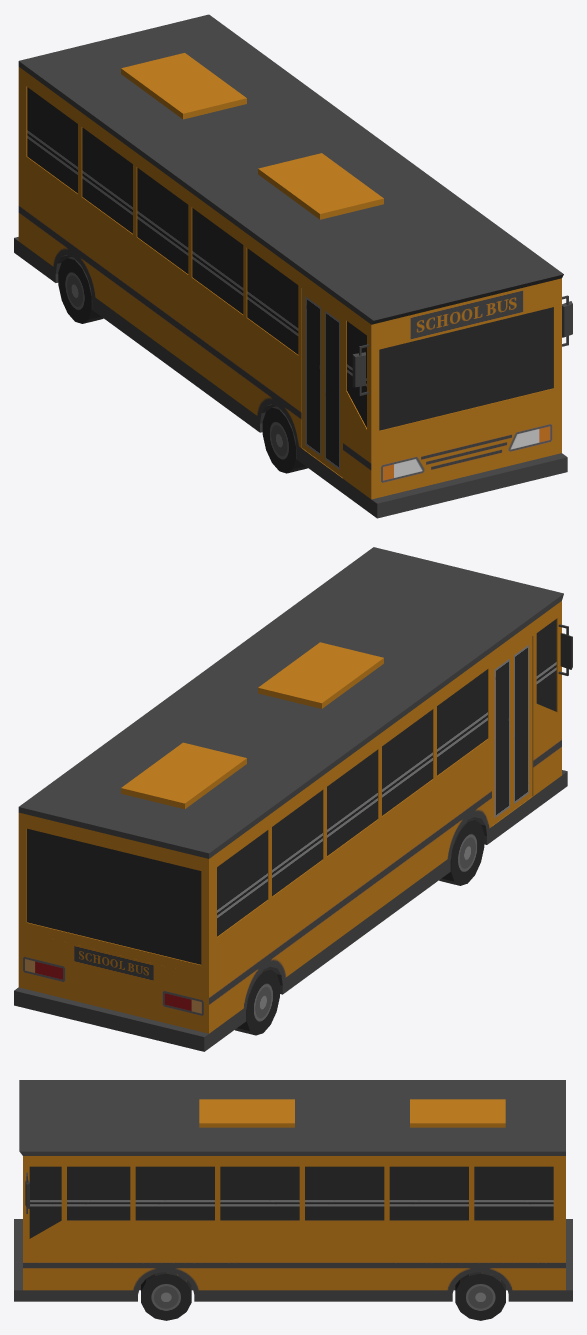
File: school-bus.glb
3 renders of one model, top to bottom at view 1: azimuth 30°, elevation 25°; view 2: azimuth 150°, elevation 25°; view 3: azimuth 270°, elevation 25°, orthographic. The views are drawn at different scales.
Visible parts, largest first — view 1: Body, FR, RR; view 2: Body, FR, RR; view 3: Body, RL, FL.
Boxes of the visible parts, x1=… form: Body: x1=14, y1=14, x2=572, y2=518; FR: x1=262, y1=406, x2=307, y2=473; RR: x1=58, y1=257, x2=103, y2=323; Body: x1=14, y1=547, x2=572, y2=1051; FR: x1=439, y1=818, x2=484, y2=885; RR: x1=235, y1=968, x2=279, y2=1035; Body: x1=14, y1=1080, x2=572, y2=1301; RL: x1=455, y1=1271, x2=505, y2=1320; FL: x1=141, y1=1271, x2=191, y2=1320.
Bounding box in the file's own units: 3.68 × 3.63 × 10.57.
1 material, 1 textured.
